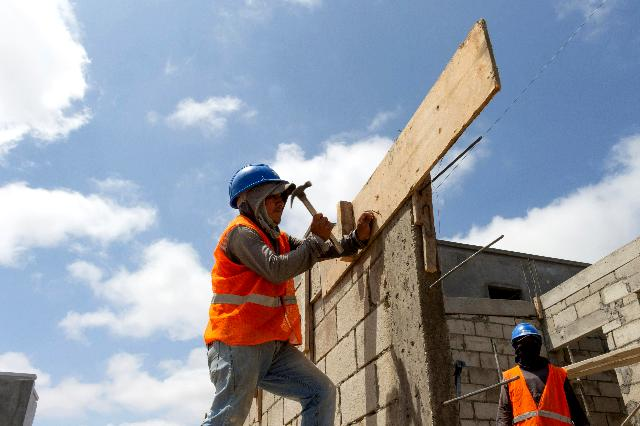helmet: (214, 152, 292, 200), (510, 320, 538, 340)
vest: (204, 222, 306, 366), (494, 363, 573, 426)
